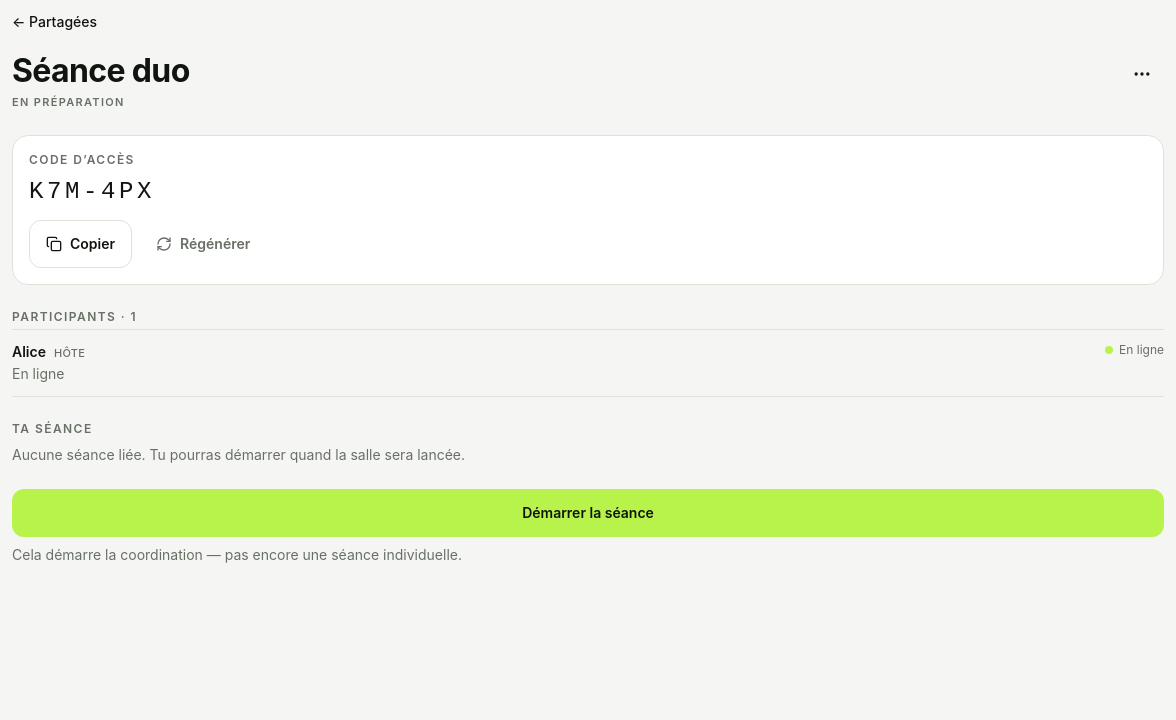
Test: SharedWorkoutRoomDetailPage › copie le code d’accès
What coordinates should you click on to do the following:
click the button "Copier"
I would click on:
 (81, 244)
Its box is [29,220,132,268].
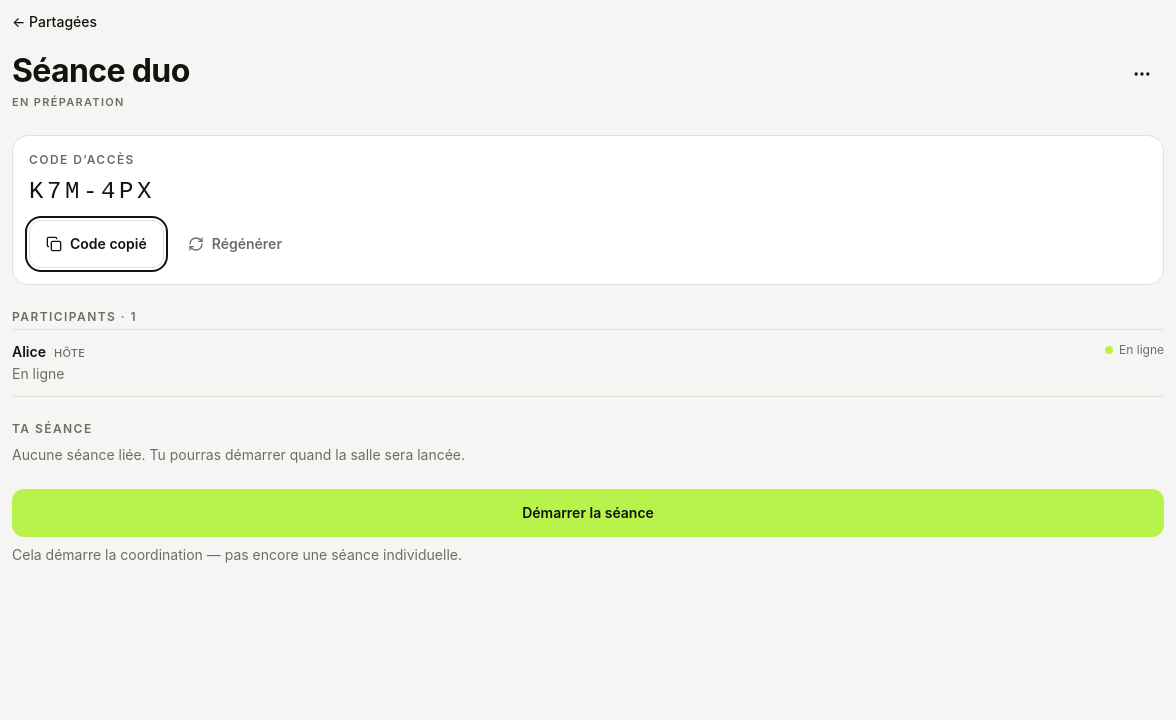
Result: the button "Code copié" is shown at [29,220,164,268]
